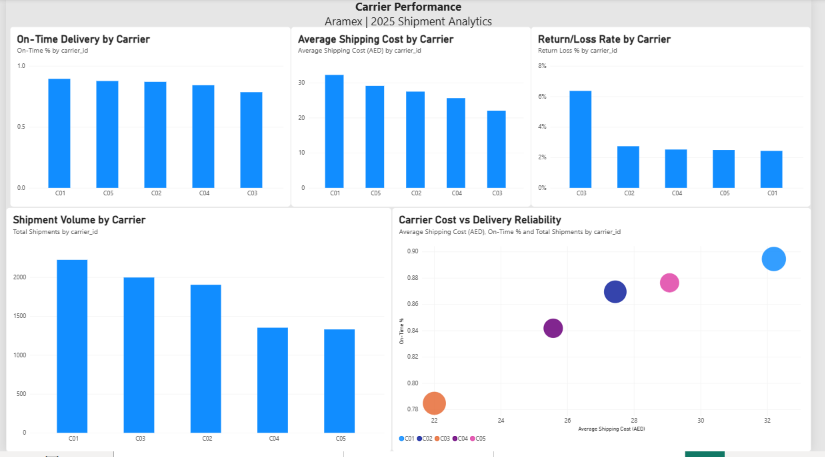

The page's visual inventory and layout, read from the dashboard file:
{"tool":"powerbi","page":{"name":"Carrier Performance","canvas":[1920,1080],"ordinal":1},"visuals":[{"type":"clusteredColumnChart","title":"On-Time Delivery by Carrier","fields":{"Category":["shipments_clean.carrier_id"],"Y":["shipments_clean.On-Time %"]},"box":[10,67.5,670,430],"z":0},{"type":"clusteredColumnChart","title":"Average Shipping Cost by Carrier","fields":{"Category":["shipments_clean.carrier_id"],"Y":["shipments_clean.Average Shipping Cost"]},"box":[680,67.5,572.5,430],"z":1000},{"type":"clusteredColumnChart","title":"Return/Loss Rate by Carrier","fields":{"Category":["shipments_clean.carrier_id"],"Y":["shipments_clean.Return Loss %"]},"box":[1252.5,67.5,667.5,430],"z":2000},{"type":"clusteredColumnChart","title":"Shipment Volume by Carrier","fields":{"Category":["shipments_clean.carrier_id"],"Y":["shipments_clean.Total Shipments"]},"box":[0,497.5,920,582.5],"z":3000},{"type":"scatterChart","title":"Carrier Cost vs Delivery Reliability","fields":{"Series":["shipments_clean.carrier_id"],"Size":["shipments_clean.Total Shipments"],"X":["shipments_clean.Average Shipping Cost"],"Y":["shipments_clean.On-Time %"]},"box":[920,497.5,1000,582.5],"z":4000},{"type":"textbox","box":[0,0,1920,97.5],"z":5000}]}

Visuals, with their boxes in screenshot pixels (x1, y1, x2, y2), scaled from the page's 1920x1080 canvas onto the 825x457 screenshot:
"On-Time Delivery by Carrier" clusteredColumnChart: locate(4, 29, 292, 211)
"Average Shipping Cost by Carrier" clusteredColumnChart: locate(292, 29, 538, 211)
"Return/Loss Rate by Carrier" clusteredColumnChart: locate(538, 29, 824, 211)
"Shipment Volume by Carrier" clusteredColumnChart: locate(0, 211, 395, 456)
"Carrier Cost vs Delivery Reliability" scatterChart: locate(395, 211, 824, 456)
textbox: locate(0, 0, 824, 41)
